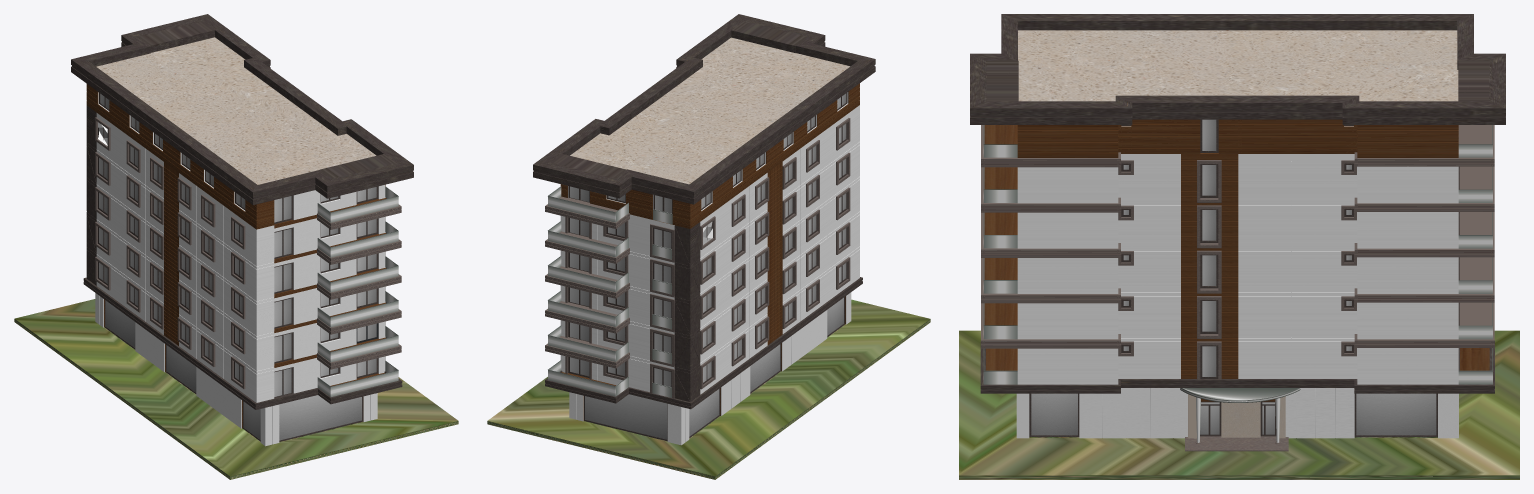
The model's file is Building.obj.
3 views of the same model, side by side, from view 1: azimuth 30°, elevation 25°; view 2: azimuth 150°, elevation 25°; view 3: azimuth 270°, elevation 25° (orthographic). The views are drawn at different scales.
Visible parts, largest first — view 1: zemindoseme, Cube_6, catıdoseme, Sweep.1, Extrude.1_1, zeminkat.1, Sweep, Glass_2, Extrude.2, kat_3, kat_2, kat_4 (+17 smaller); view 2: Cube_6, zemindoseme, catıdoseme, Sweep.1, Extrude.1_1, Extrude.2, zeminkat.1, Glass_6, Sweep, Cube.1_10, Cube.1_4, Cube.1_3 (+10 smaller); view 3: Cube_6, zemindoseme, catıdoseme, Sweep.1, Extrude.1_1, zeminkat.1, Sweep, Glass, balkonsilme_2, balkonsilme_1, balkonsilme_3, balkonsilme (+17 smaller).
Boxes of the visible parts, left/top/right/bottom form: zemindoseme: left=14, top=299, right=458, bottom=479; Cube_6: left=96, top=113, right=385, bottom=402; catıdoseme: left=96, top=37, right=376, bottom=184; Sweep.1: left=71, top=14, right=413, bottom=205; Extrude.1_1: left=86, top=84, right=385, bottom=345; zeminkat.1: left=95, top=293, right=377, bottom=446; Sweep: left=83, top=277, right=402, bottom=409; Glass_2: left=279, top=395, right=361, bottom=440; Extrude.2: left=86, top=105, right=96, bottom=285; kat_3: left=274, top=251, right=385, bottom=289; kat_2: left=274, top=286, right=385, bottom=324; kat_4: left=274, top=216, right=385, bottom=254; Cube_6: left=560, top=105, right=859, bottom=394; zemindoseme: left=487, top=299, right=930, bottom=479; catıdoseme: left=570, top=37, right=849, bottom=184; Sweep.1: left=533, top=14, right=875, bottom=204; Extrude.1_1: left=560, top=83, right=859, bottom=344; Extrude.2: left=674, top=222, right=700, bottom=401; zeminkat.1: left=569, top=292, right=851, bottom=445; Glass_6: left=585, top=394, right=667, bottom=439; Sweep: left=545, top=277, right=862, bottom=409; Cube.1_10: left=548, top=361, right=628, bottom=396; Cube.1_4: left=548, top=326, right=628, bottom=361; Cube.1_3: left=548, top=291, right=628, bottom=326; Cube_6: left=1017, top=154, right=1458, bottom=384; zemindoseme: left=959, top=330, right=1519, bottom=479; catıdoseme: left=1018, top=30, right=1458, bottom=101; Sweep.1: left=970, top=14, right=1505, bottom=124; Extrude.1_1: left=1017, top=119, right=1458, bottom=378; zeminkat.1: left=1016, top=388, right=1458, bottom=438; Sweep: left=980, top=341, right=1494, bottom=393; Glass: left=1356, top=393, right=1436, bottom=435; balkonsilme_2: left=1354, top=212, right=1494, bottom=257; balkonsilme_1: left=1354, top=257, right=1494, bottom=302; balkonsilme_3: left=1354, top=166, right=1494, bottom=211; balkonsilme: left=1354, top=302, right=1494, bottom=347.
Bounding box in the file's own units: 2054 × 2288 × 3361.
11 materials, 11 textured.
